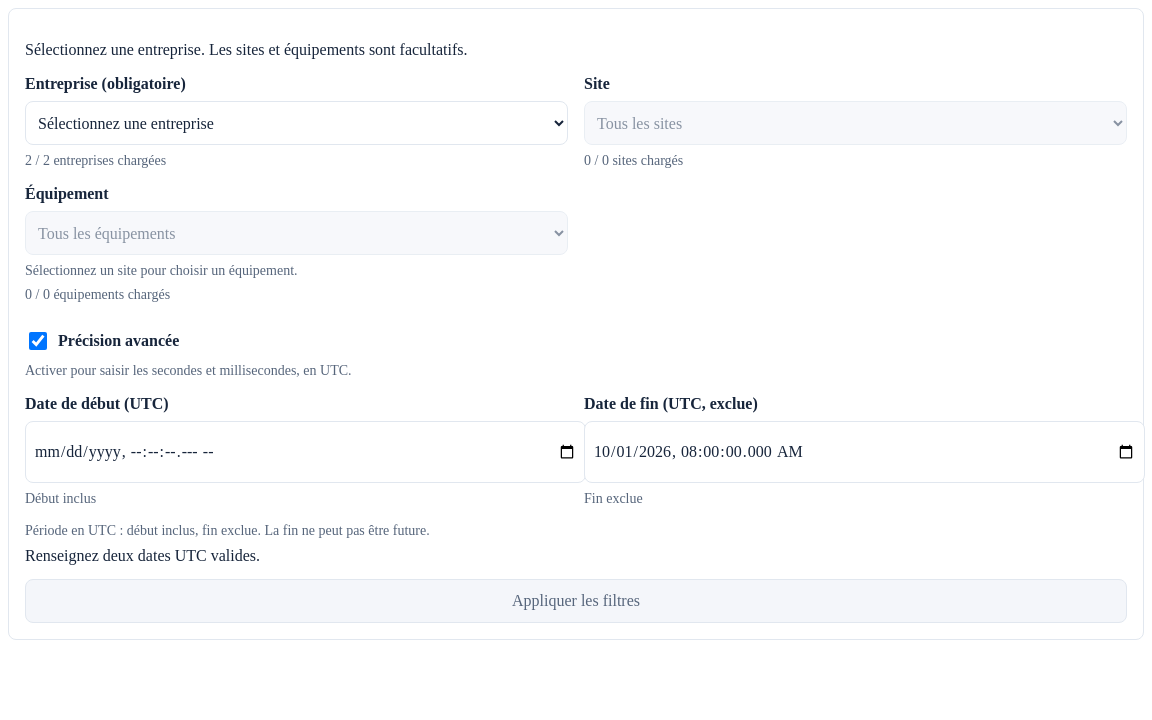
Test case: DashboardFiltersComponent › keeps invalid precise values intact and prevents their conversion
Click the checkbox with id "dashboard-precision". click: (38, 341)
box: [29,332,47,350]
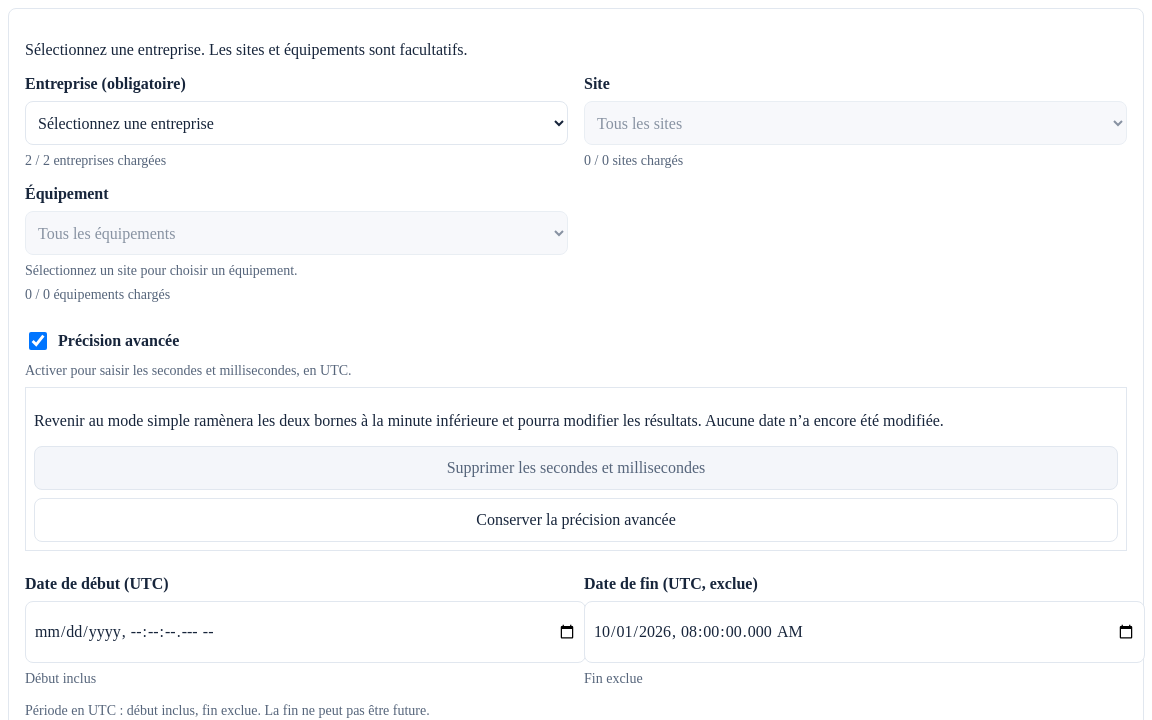
Check: the button "Supprimer les secondes et millisecondes" is disabled, box [34,446,1118,490]
